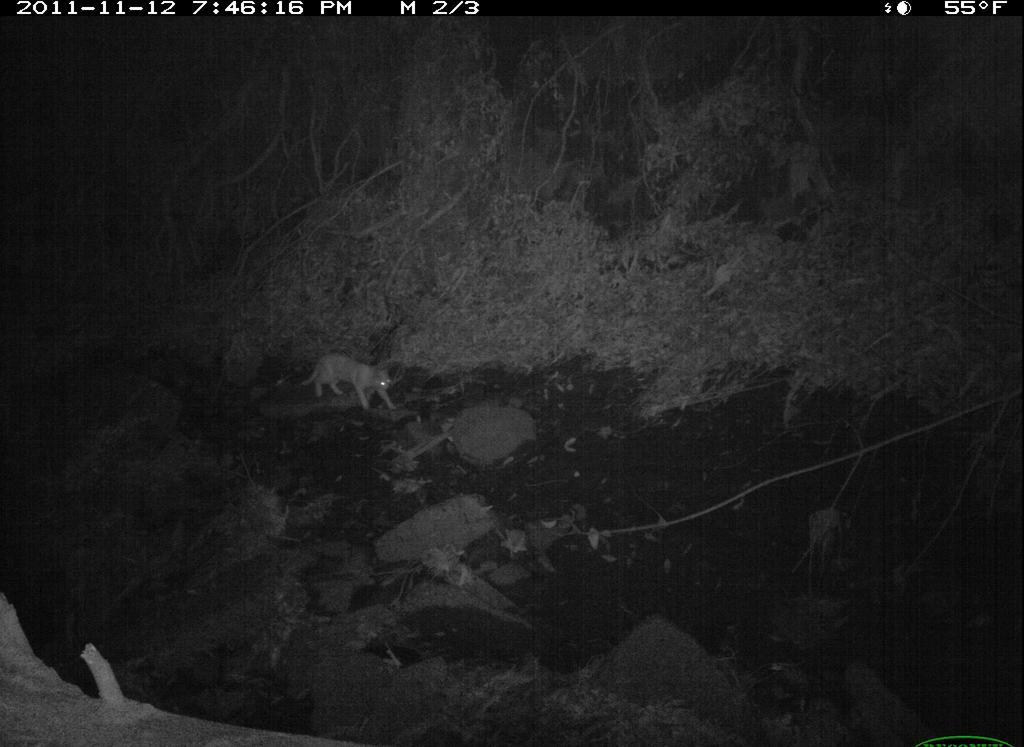cat: (294, 347, 409, 423)
